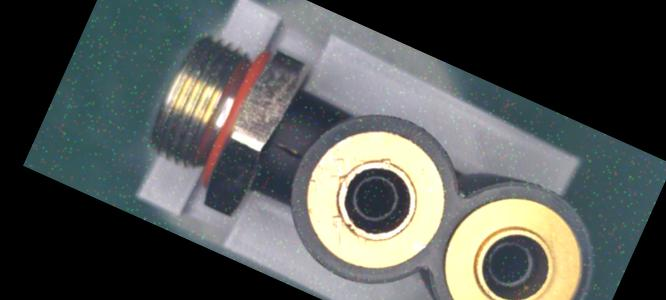craze: (269, 136, 305, 164)
